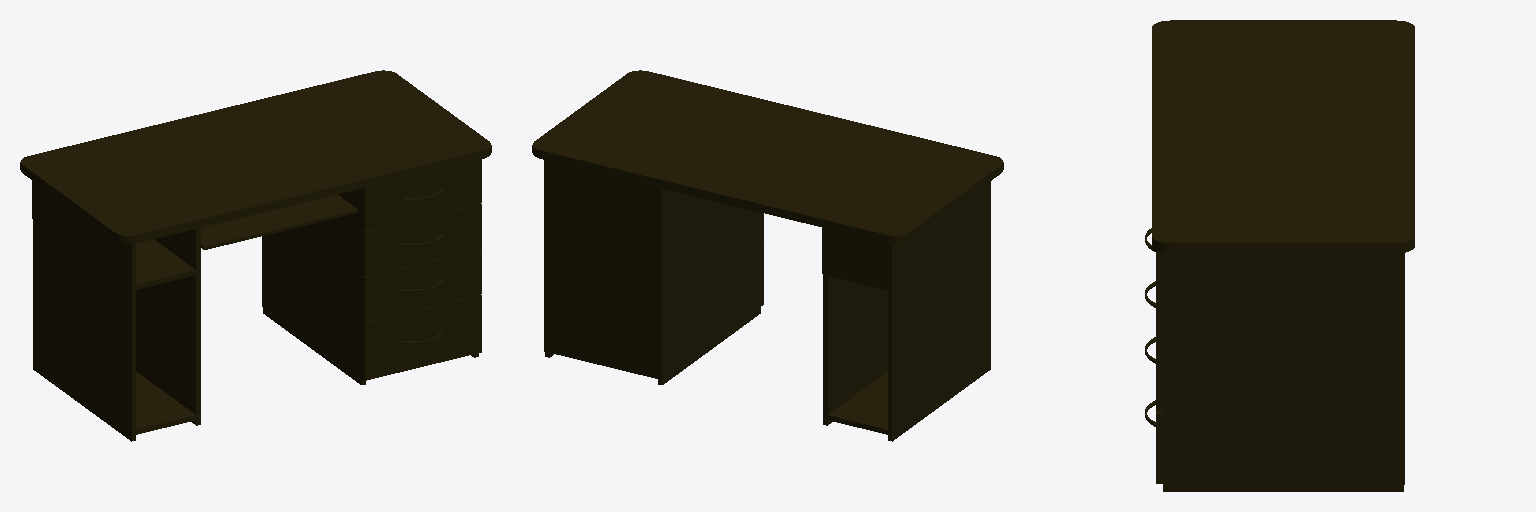
robot.urdf — computer_desk2:
<robot
  name="computer_desk2">
  <link
    name="computer_desk2">
    <inertial>
      <origin
        xyz="0.73579 -0.33871 0.45798"
        rpy="0 0 0" />
      <mass
        value="102.08" />
      <inertia
        ixx="11.1698355585897"
        ixy="-0.562881905030638"
        ixz="-1.42996316086886"
        iyy="27.2344217694982"
        iyz="-0.114855665064901"
        izz="24.8788937163572" />
    </inertial>
    <visual>
      <origin
        xyz="-0.05 3.20449504605247E-17 0.75"
        rpy="0 0 0" />
      <geometry>
        <mesh
          filename="package://computer_desk2/meshes/computer_desk2.dae" />
      </geometry>
      <material
        name="">
        <color
          rgba="0.17647 0.15294 0.066667 1" />
      </material>
    </visual>
    <collision>
      <origin
        xyz="-0.05 3.20449504605247E-17 0.75"
        rpy="0 0 0" />
      <geometry>
        <mesh
          filename="package://computer_desk2/meshes/computer_desk2.dae" />
      </geometry>
    </collision>
  </link>
</robot>

--- Render facts (derived) ---
Views: 3 orthographic renders of the robot side by side, from view 1: azimuth 30°, elevation 25°; view 2: azimuth 150°, elevation 25°; view 3: azimuth 270°, elevation 25°.
Robot: computer_desk2 — 1 links, 0 joints (none); root link computer_desk2; default pose: every joint at zero.
Visible links, largest first — view 1: computer_desk2; view 2: computer_desk2; view 3: computer_desk2.
Boxes of the visible links, x1,y1,x2,y2 form: computer_desk2: [20, 70, 491, 441]; computer_desk2: [532, 70, 1003, 441]; computer_desk2: [1145, 20, 1414, 491].
Size in the robot's own frame: 1.4 by 0.718 by 0.75 metres.
Meshes: 1 distinct files referenced, 1 mesh visuals loaded (1 Collada DAE).